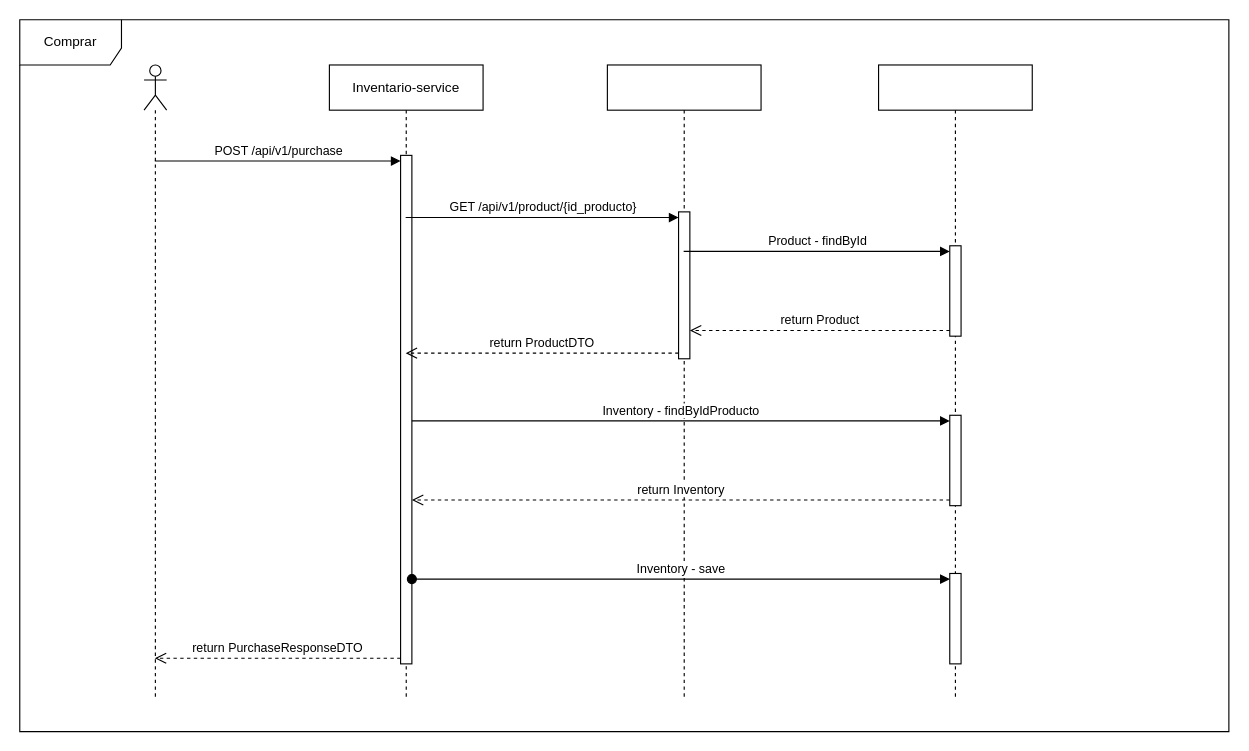
This 1249x751 diagram has some shape labels left out. The shapes that lost their labels are listed below. From the top down, each one's box as (x1, y1, x2, y2) in pixels, then its label:
(606, 64, 761, 698): Producto-service
(877, 64, 1032, 698): MySQL-service
